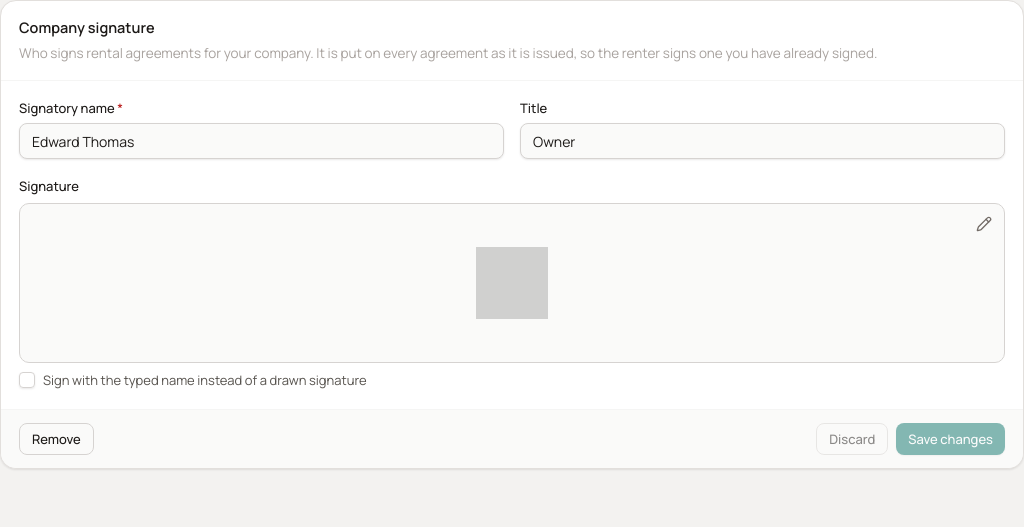
Test: CompanySignatoryCard › removes the signatory, back to agreements signed by whoever issues them
Click the button "Remove": coordinates (56, 439) x1=19 y1=423 x2=94 y2=455
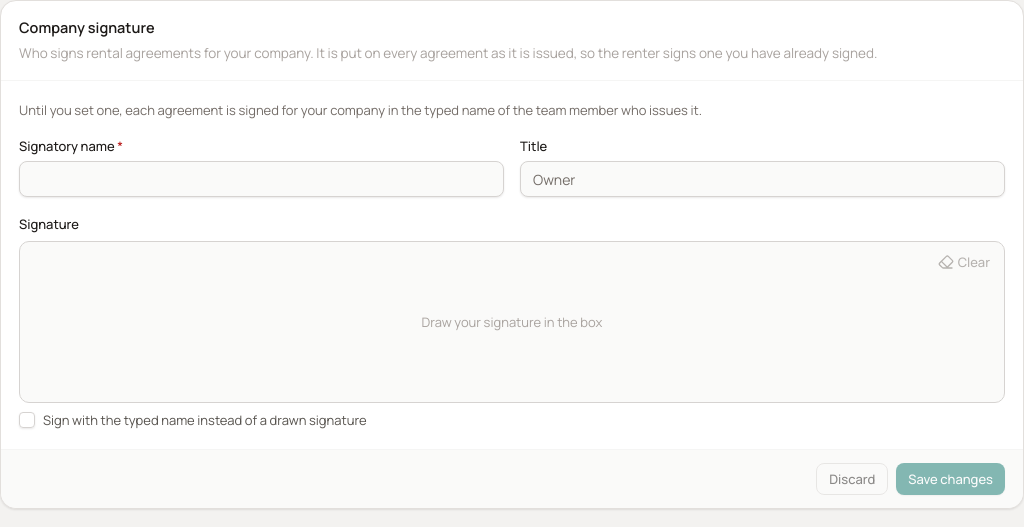
Expected: the text "Until you set one, each agreement is signed for your company" is shown, x1=19 y1=101 x2=702 y2=119
Expected: the field labelled "Signatory name *" is empty, x1=19 y1=161 x2=504 y2=197
